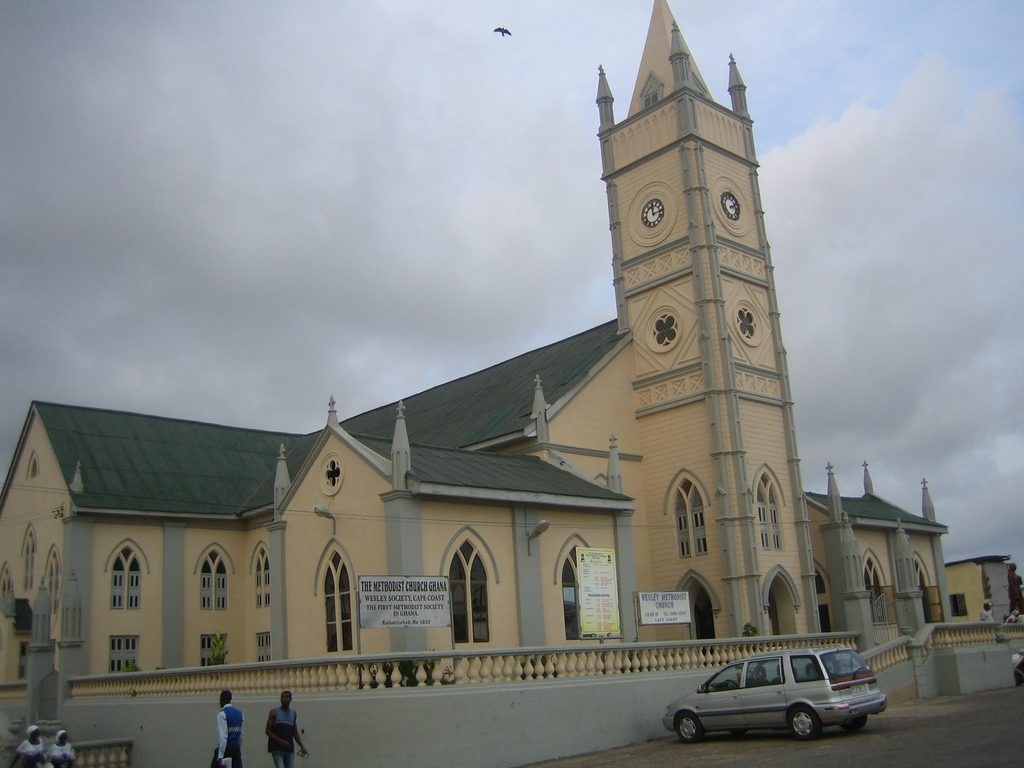Car: (668, 638, 888, 747)
